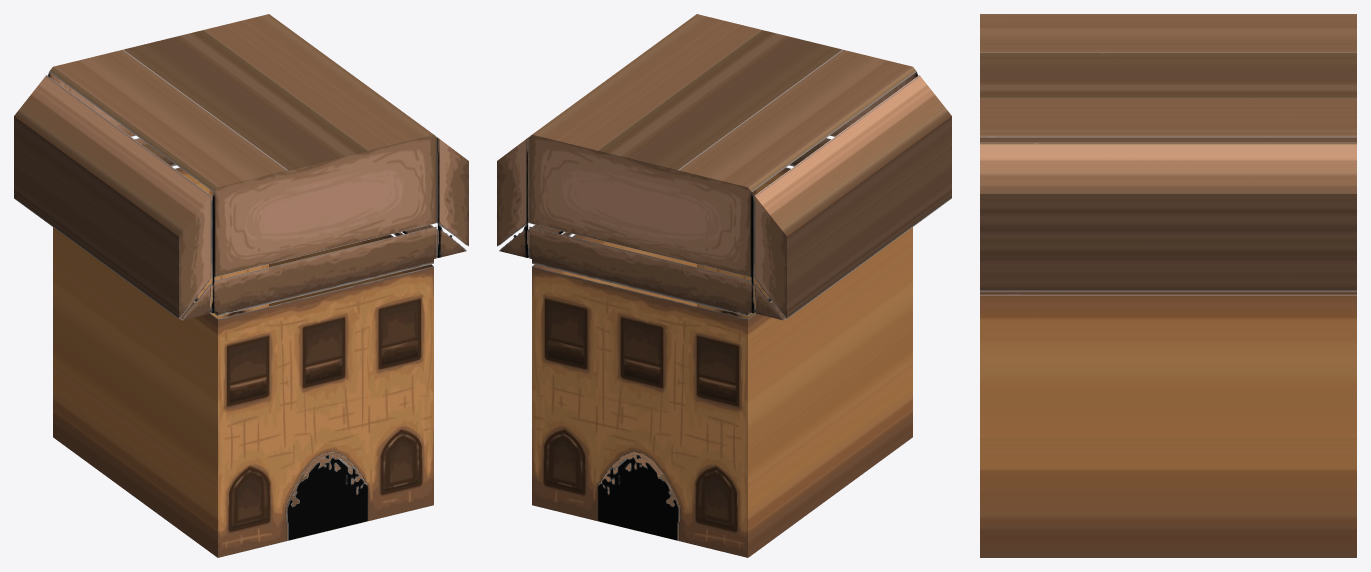
Rendered from house2.fbx.
3 renders of one model, left to right at view 1: azimuth 30°, elevation 25°; view 2: azimuth 150°, elevation 25°; view 3: azimuth 270°, elevation 25°, orthographic. The views are drawn at different scales.
Parts seen in each view (by area): view 1: Plane; view 2: Plane; view 3: Plane.
Part boxes in pixels (left/top/right/bottom): Plane: left=14, top=14, right=468, bottom=557; Plane: left=497, top=14, right=951, bottom=557; Plane: left=980, top=14, right=1356, bottom=557.
Bounding box in the file's own units: 55.88 × 68.2 × 55.
